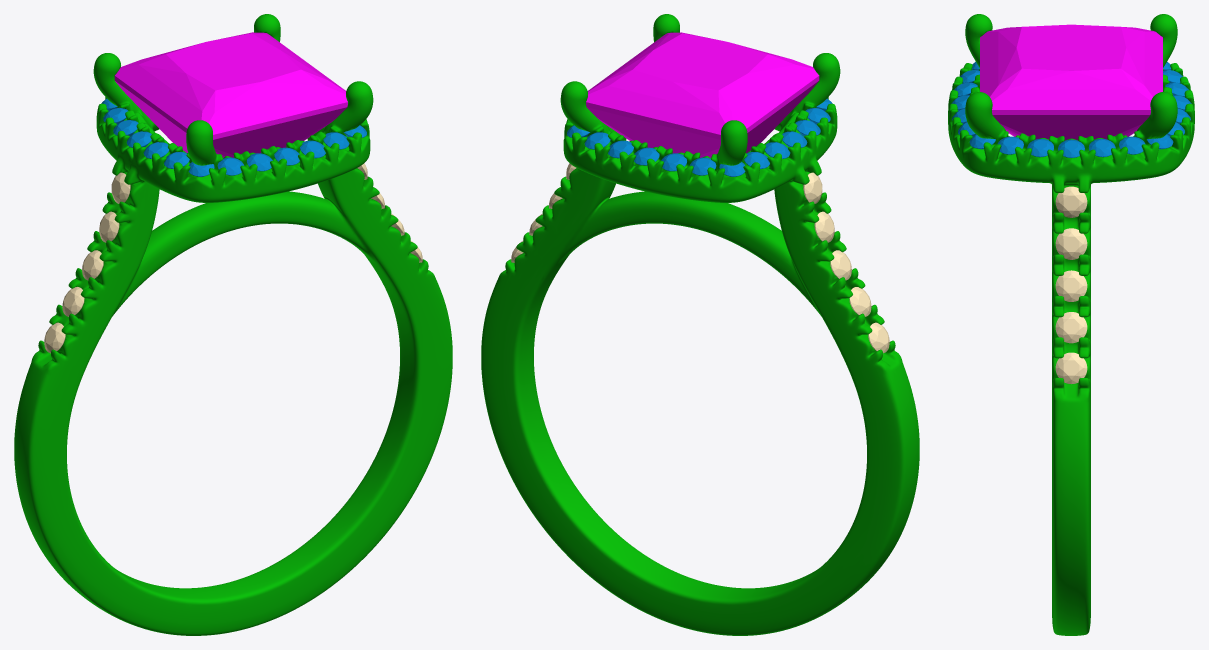
File: BE1D32H_PR_200ct_RENDER.glb
3 renders of one model, left to right at view 1: azimuth 30°, elevation 25°; view 2: azimuth 150°, elevation 25°; view 3: azimuth 270°, elevation 25°, orthographic.
Visible parts, largest first — view 1: Metal 01, CS_Diamond_Princess; view 2: Metal 01, CS_Diamond_Princess; view 3: Metal 01, CS_Diamond_Princess, Diamond_Round_Gem_SH.008, Diamond_Round_Gem_SH.006, Diamond_Round_Gem_SH.007, Diamond_Round_Gem_SH.005, Diamond_Round_Gem_SH.009, Diamond_Round_Gem_HD.012, Diamond_Round_Gem_HD.007, Diamond_Round_Gem_HD.017.
Boxes of the visible parts, x1=… form: Metal 01: x1=14, y1=14, x2=452, y2=635; CS_Diamond_Princess: x1=114, y1=32, x2=347, y2=157; Metal 01: x1=481, y1=14, x2=919, y2=635; CS_Diamond_Princess: x1=586, y1=32, x2=819, y2=157; Metal 01: x1=948, y1=14, x2=1194, y2=635; CS_Diamond_Princess: x1=980, y1=24, x2=1162, y2=140; Diamond_Round_Gem_SH.008: x1=1055, y1=228, x2=1087, y2=259; Diamond_Round_Gem_SH.006: x1=1055, y1=312, x2=1087, y2=343; Diamond_Round_Gem_SH.007: x1=1055, y1=270, x2=1087, y2=301; Diamond_Round_Gem_SH.005: x1=1055, y1=352, x2=1087, y2=383; Diamond_Round_Gem_SH.009: x1=1055, y1=186, x2=1087, y2=217; Diamond_Round_Gem_HD.012: x1=1058, y1=139, x2=1084, y2=157; Diamond_Round_Gem_HD.007: x1=1088, y1=138, x2=1115, y2=157; Diamond_Round_Gem_HD.017: x1=1027, y1=138, x2=1053, y2=157.
Bounding box in the file's own units: 20.26 × 25.61 × 10.13.
